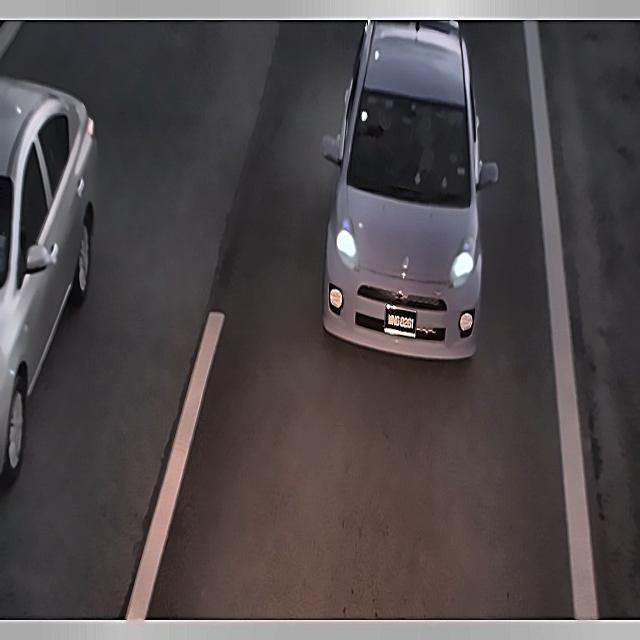car: (380, 297, 422, 346)
